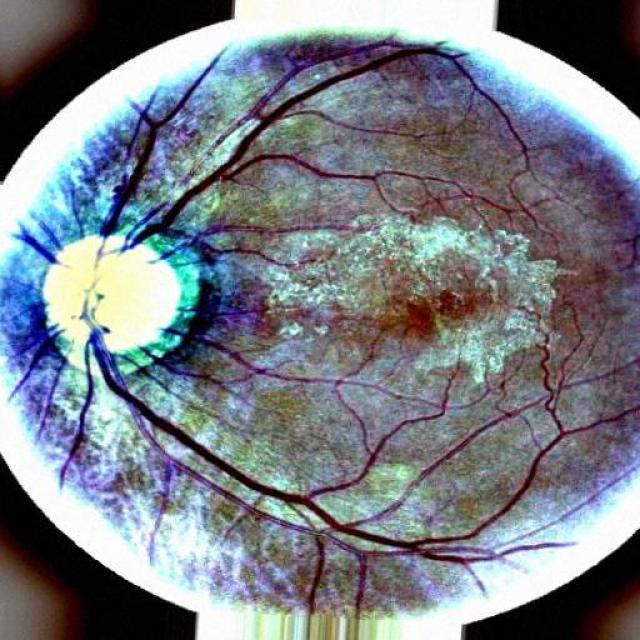Macula: (365, 259, 503, 356)
Nerves: (84, 303, 604, 592), (84, 38, 540, 268)
Optic Disk: (44, 221, 222, 386)
